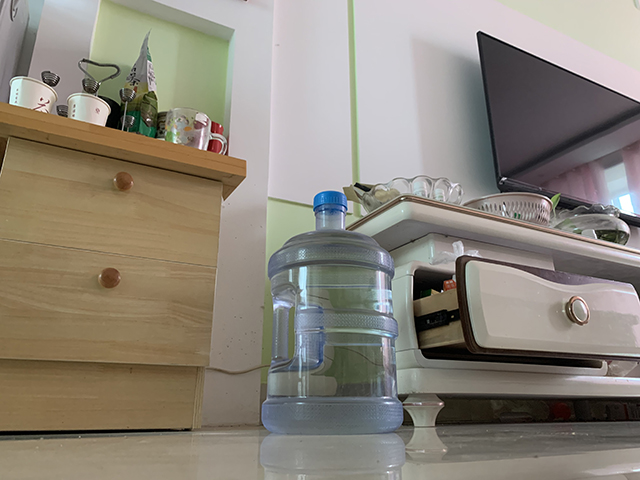cabinet: (1, 101, 248, 434), (345, 191, 640, 429)
